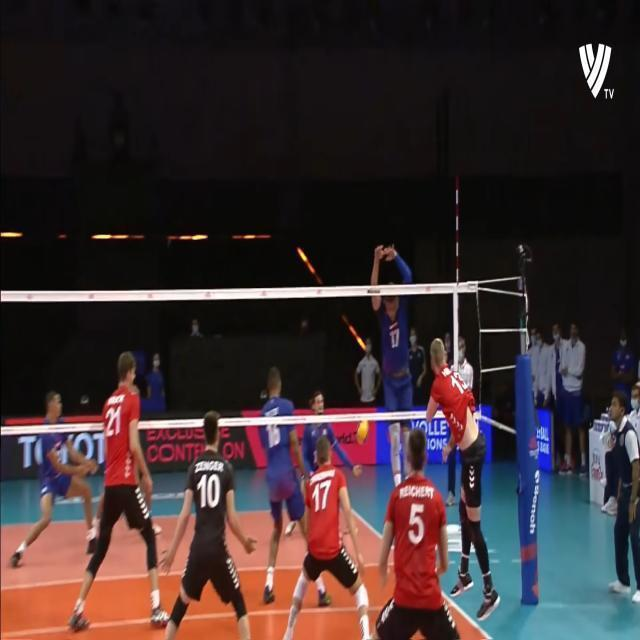volleyball: (354, 420, 370, 445)
